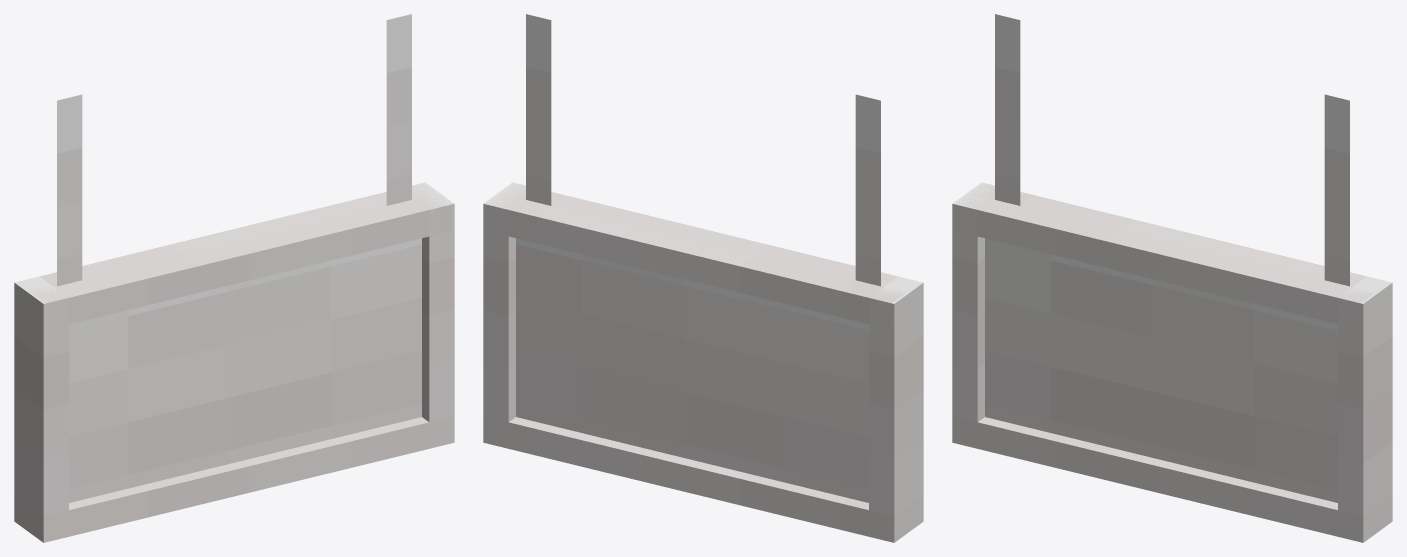
File: model_sign.obj
The picture shows the model from 3 angles, left to right: view 1: azimuth 30°, elevation 25°; view 2: azimuth 150°, elevation 25°; view 3: azimuth 330°, elevation 25°; orthographic projection.
Visible parts, largest first — view 1: sign_base, sign_frame, sign_chain; view 2: sign_base, sign_frame, sign_chain; view 3: sign_base, sign_frame, sign_chain.
Boxes of the visible parts, x1,y1,x2,y2 form: sign_base: [69, 238, 421, 502]; sign_frame: [14, 182, 454, 542]; sign_chain: [57, 14, 411, 286]; sign_base: [516, 238, 868, 502]; sign_frame: [483, 182, 923, 542]; sign_chain: [526, 14, 880, 286]; sign_base: [985, 238, 1337, 502]; sign_frame: [952, 182, 1392, 542]; sign_chain: [995, 14, 1349, 286].
Size of the model in its own units: 1.01 by 1 by 0.125.
